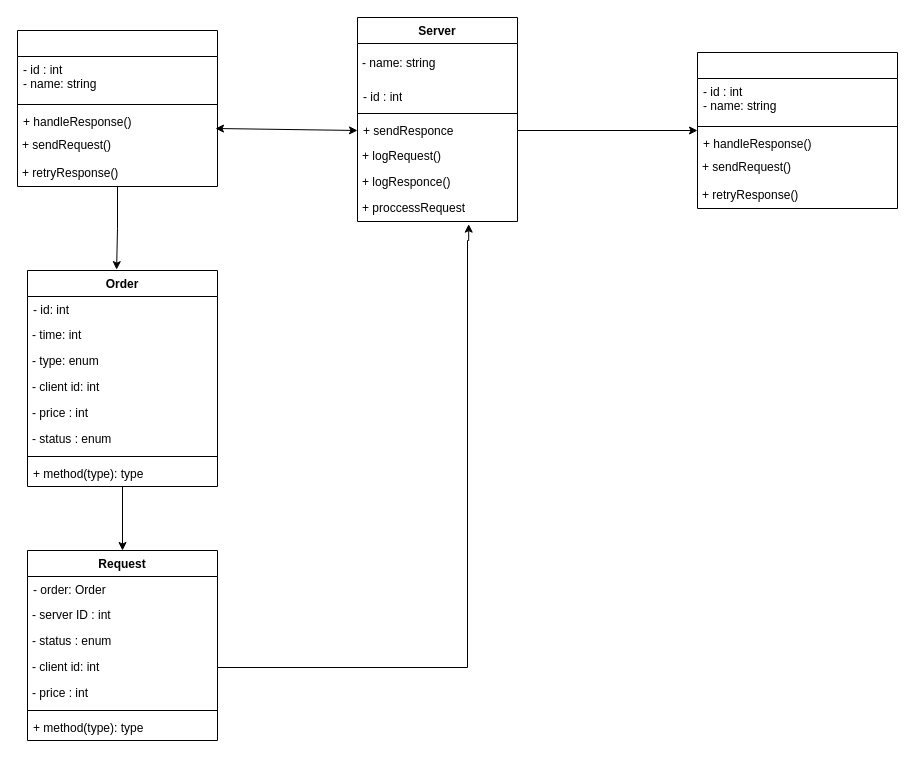
Some shapes in this 915 by 761 pixel diagram are drawn without their labels. The shapes that lost their labels are listed below. From the top down, each one's box as (x1, y1, x2, y2) in pixels, then its label:
(16, 30, 218, 186): Client
(696, 52, 898, 208): Taxi
